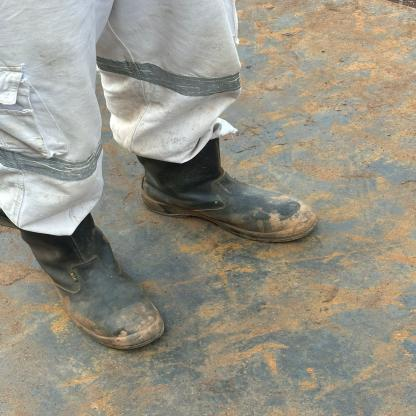bota: (0, 212, 170, 352), (131, 144, 327, 245)
